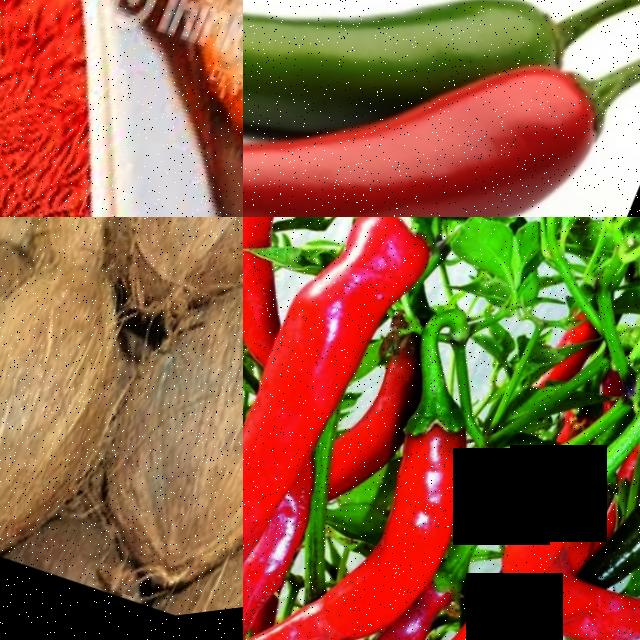chilli: (243, 217, 449, 640), (310, 378, 511, 640), (243, 29, 452, 217), (470, 458, 640, 640), (243, 0, 385, 196), (243, 217, 363, 368)
coconut: (58, 268, 243, 632), (0, 231, 160, 585), (65, 217, 243, 351)
crab: (136, 0, 243, 217)
